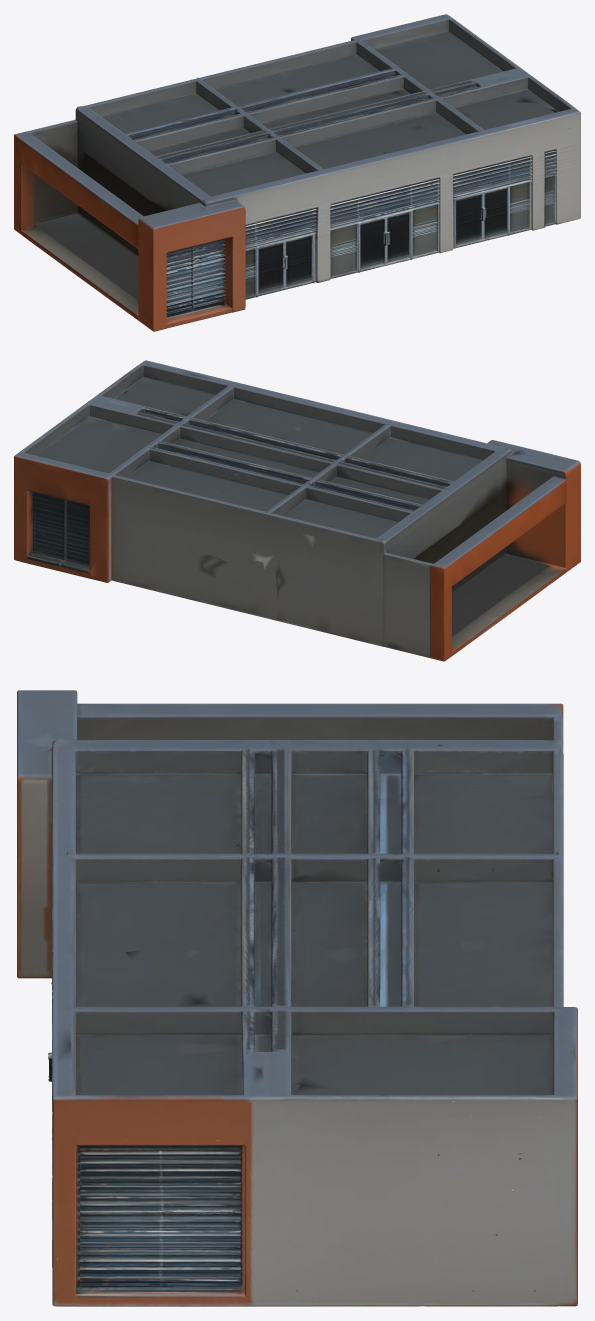
File: mod-diseo-grafico_1781134754170.glb
3 renders of one model, top to bottom at view 1: azimuth 30°, elevation 25°; view 2: azimuth 150°, elevation 25°; view 3: azimuth 270°, elevation 25°, orthographic. The views are drawn at different scales.
Parts seen in each view (by area): view 1: node_0; view 2: node_0; view 3: node_0.
Boxes of the visible parts, <box> form: node_0: <box>14,14,580,331</box>; node_0: <box>14,360,580,661</box>; node_0: <box>17,690,577,1306</box>.
Size of the model in its own units: 1.02 by 0.2464 by 0.5822.
1 material, 1 textured.
